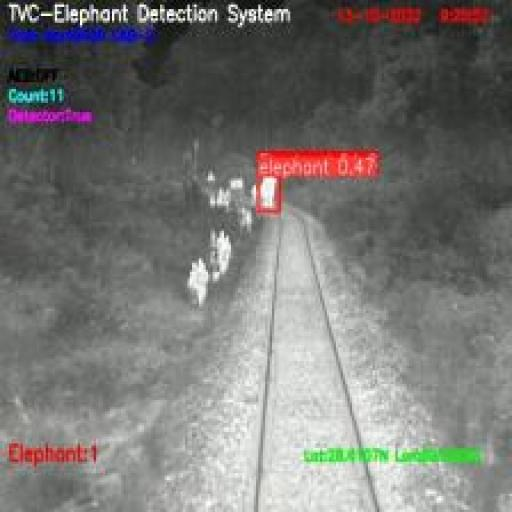Elephant: (258, 174, 278, 209)
